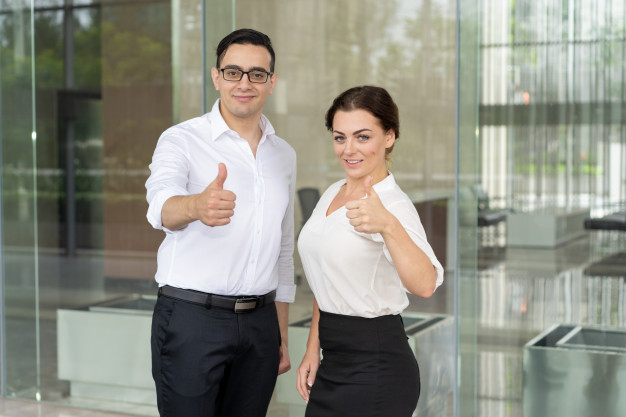thumbsup: (204, 162, 237, 227), (345, 174, 373, 233)
